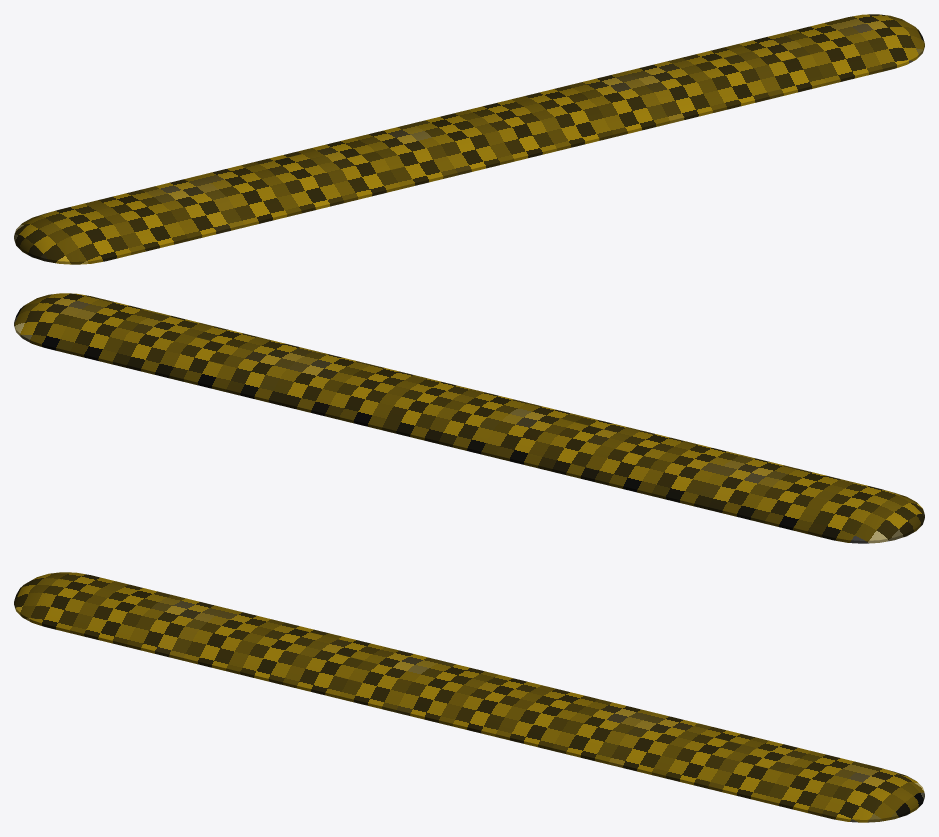
Rendered from mesh_hump_01.FBX.
3 views of the same model, one above another, from view 1: azimuth 30°, elevation 25°; view 2: azimuth 150°, elevation 25°; view 3: azimuth 330°, elevation 25° (orthographic).
Parts seen in each view (by area): view 1: mesh_hump001; view 2: mesh_hump001; view 3: mesh_hump001.
Boxes of the visible parts, x1,y1,x2,y2 form: mesh_hump001: (14, 14, 924, 264); mesh_hump001: (14, 293, 924, 543); mesh_hump001: (14, 572, 924, 822).
Size of the model in its own units: 4.22 by 0.0929 by 0.5.
